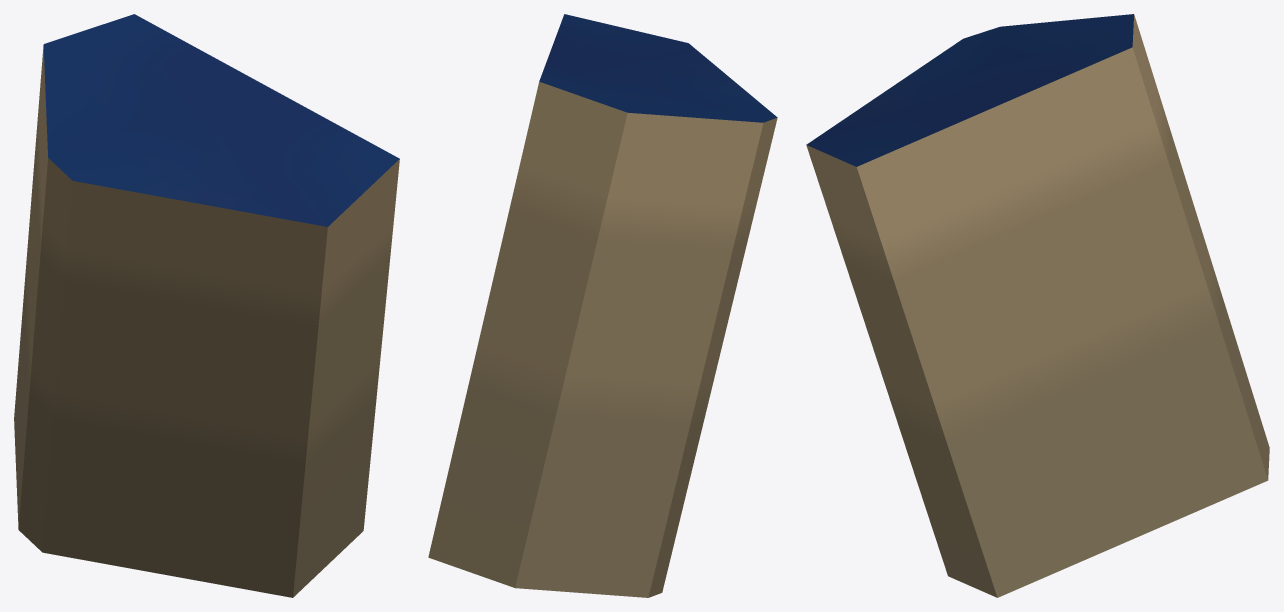
Rendered from 060a_Fiji.glb.
The picture shows the model from 3 angles, left to right: view 1: azimuth 30°, elevation 25°; view 2: azimuth 150°, elevation 25°; view 3: azimuth 270°, elevation 25°; orthographic projection. The views are drawn at different scales.
Parts seen in each view (by area): view 1: part_0; view 2: part_0; view 3: part_0.
Part boxes in pixels (x1,y1,x2,y2): part_0: (14,14,399,597); part_0: (428,14,777,597); part_0: (806,14,1269,597).
Size of the model in its own units: 0.1436 by 0.2305 by 0.1935.
1 material, 1 textured.
